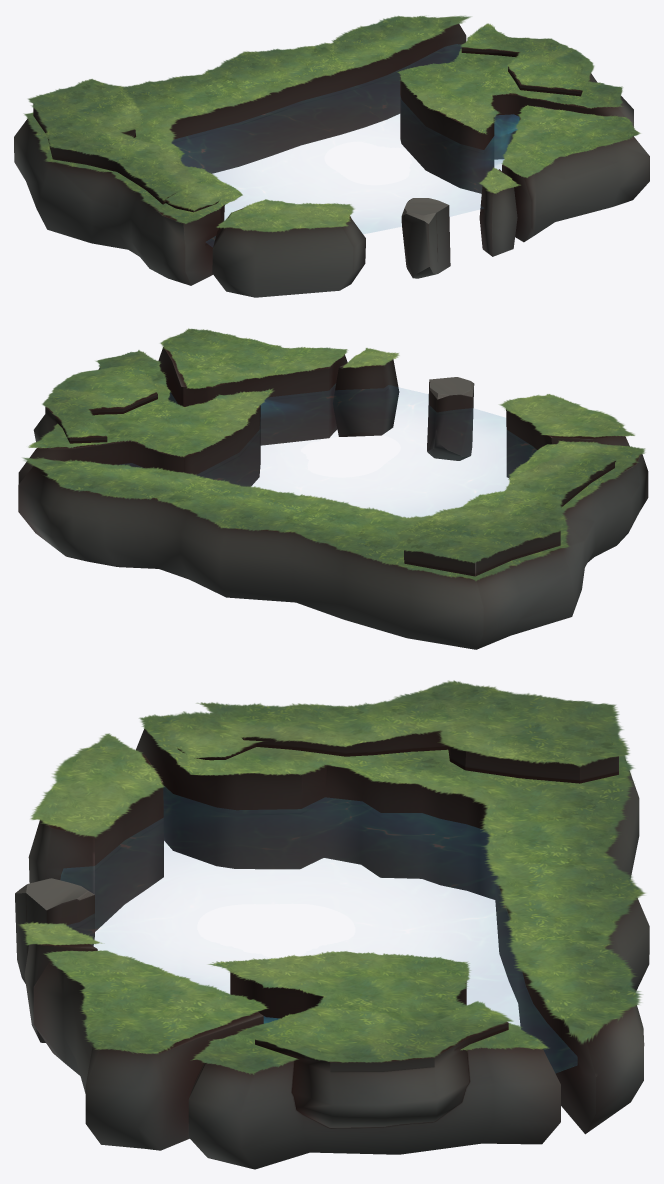
The model's file is M_island.glb.
3 views of the same model, one above another, from view 1: azimuth 30°, elevation 25°; view 2: azimuth 150°, elevation 25°; view 3: azimuth 270°, elevation 25° (orthographic). The views are drawn at different scales.
Visible parts, largest first — view 1: Props_Arena_Island.004, Props_Grass.004, Props_Lake.004; view 2: Props_Arena_Island.004, Props_Grass.004, Props_Lake.004; view 3: Props_Arena_Island.004, Props_Grass.004, Props_Lake.004.
Boxes of the visible parts, <box> form: Props_Arena_Island.004: <box>14,24,649,297</box>; Props_Grass.004: <box>24,15,640,232</box>; Props_Lake.004: <box>172,44,519,246</box>; Props_Arena_Island.004: <box>18,347,648,649</box>; Props_Grass.004: <box>22,328,645,581</box>; Props_Lake.004: <box>125,384,535,475</box>; Props_Arena_Island.004: <box>15,729,649,1169</box>; Props_Grass.004: <box>19,680,645,1074</box>; Props_Lake.004: <box>61,787,576,1072</box>.
Size of the model in its own units: 66.8 by 11.17 by 46.81.
3 materials, 3 textured.
